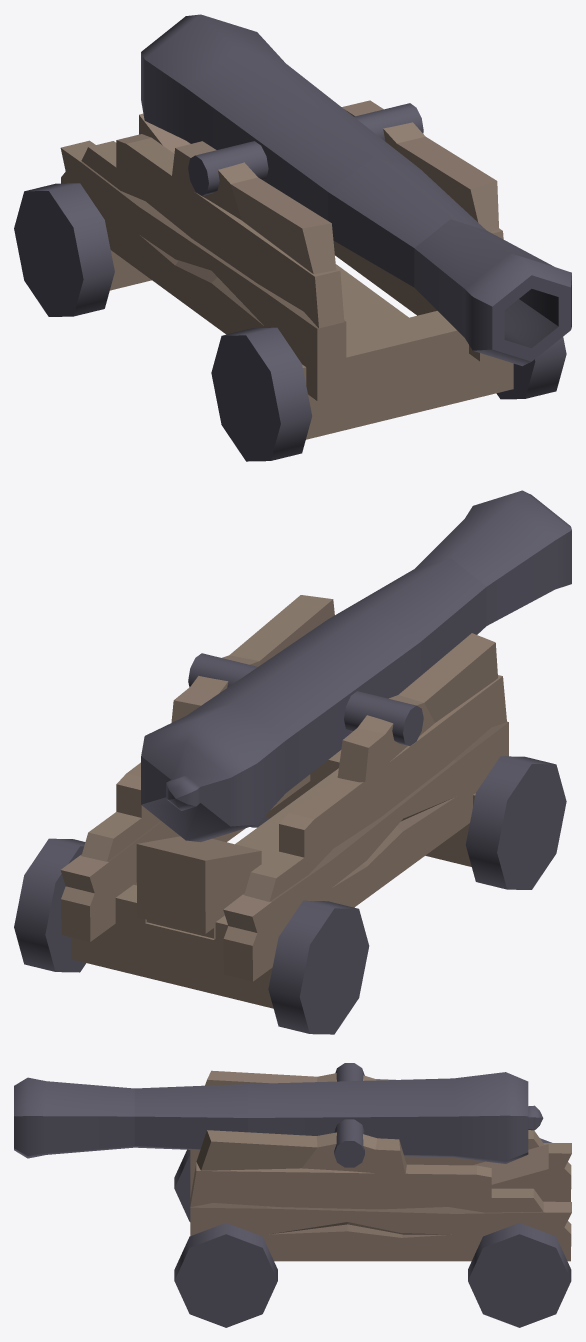
Rendered from Cannon_01.fbx.
3 views of the same model, one above another, from view 1: azimuth 30°, elevation 25°; view 2: azimuth 150°, elevation 25°; view 3: azimuth 270°, elevation 25° (orthographic). The views are drawn at different scales.
Parts seen in each view (by area): view 1: Cannon_01; view 2: Cannon_01; view 3: Cannon_01.
Boxes of the visible parts, x1,y1,x2,y2 form: Cannon_01: (14,14,571,461); Cannon_01: (14,490,571,1034); Cannon_01: (14,1063,571,1327).
Bounding box in the file's own units: 108 × 99.57 × 247.
